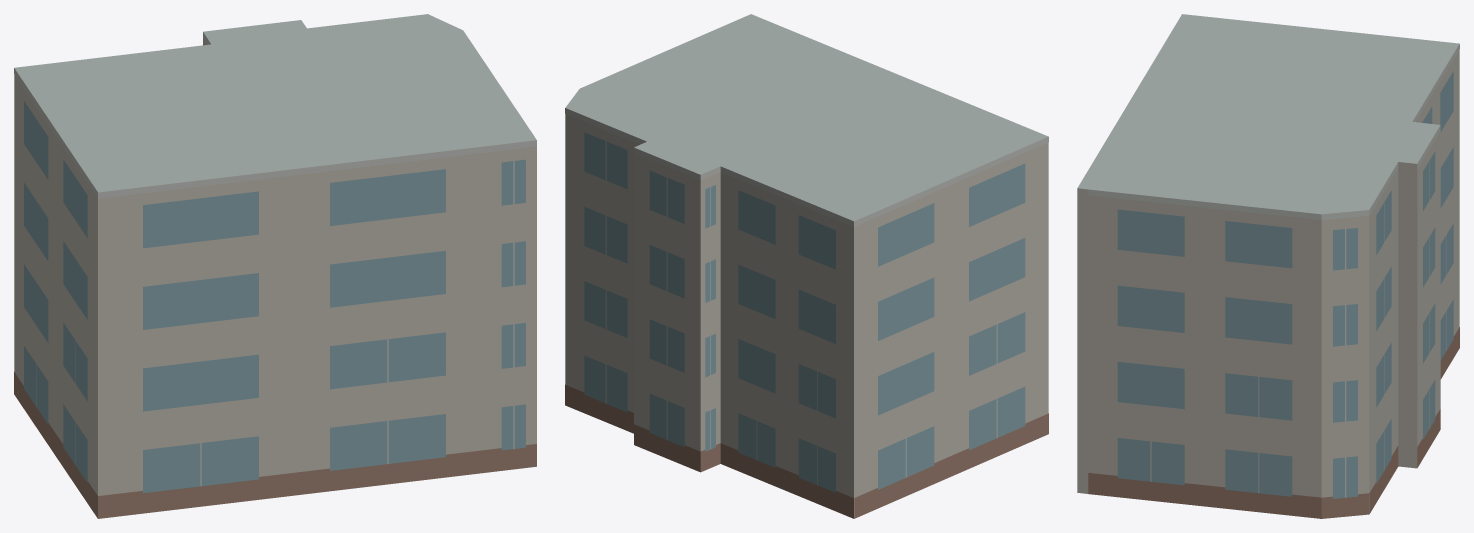
Rendered from survey-upis-32981745.glb.
3 views of the same model, side by side, from view 1: azimuth 30°, elevation 25°; view 2: azimuth 150°, elevation 25°; view 3: azimuth 270°, elevation 25° (orthographic). The views are drawn at different scales.
Visible parts, largest first — view 1: survey-upis-32981745.tmp; view 2: survey-upis-32981745.tmp; view 3: survey-upis-32981745.tmp.
Part boxes in pixels (x1,y1,x2,y2): survey-upis-32981745.tmp: [14, 14, 536, 518]; survey-upis-32981745.tmp: [565, 14, 1048, 518]; survey-upis-32981745.tmp: [1077, 14, 1459, 518].
Size of the model in its own units: 18.07 by 12.8 by 14.58.
